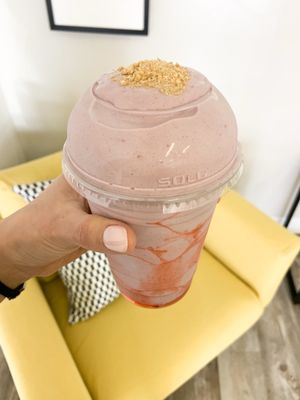pizza: (55, 54, 248, 311)
